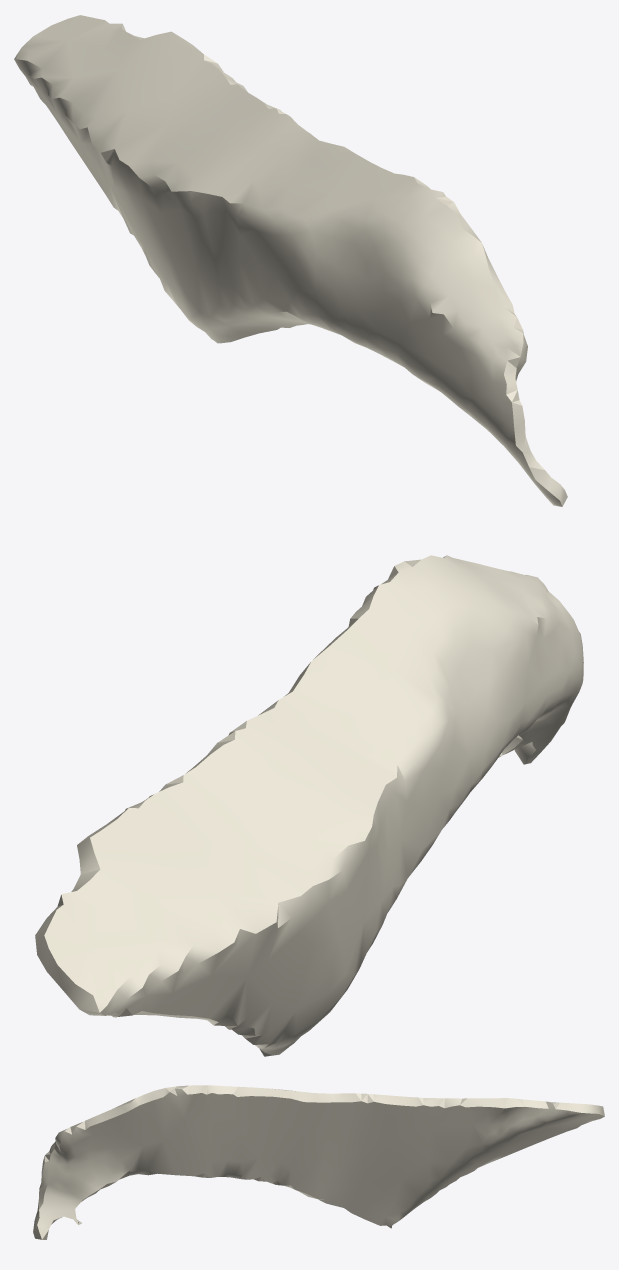
The model's file is fma54957_mm1005m.glb.
3 renders of one model, top to bottom at view 1: azimuth 30°, elevation 25°; view 2: azimuth 150°, elevation 25°; view 3: azimuth 270°, elevation 25°, orthographic. The views are drawn at different scales.
Parts seen in each view (by area): view 1: FMA54957_MM1005M; view 2: FMA54957_MM1005M; view 3: FMA54957_MM1005M.
Part boxes in pixels (x1,y1,x2,y2): FMA54957_MM1005M: (14, 15, 567, 506); FMA54957_MM1005M: (35, 555, 583, 1056); FMA54957_MM1005M: (33, 1085, 604, 1239).
Bounding box in the file's own units: 0.00815 × 0.0124 × 0.0415.
